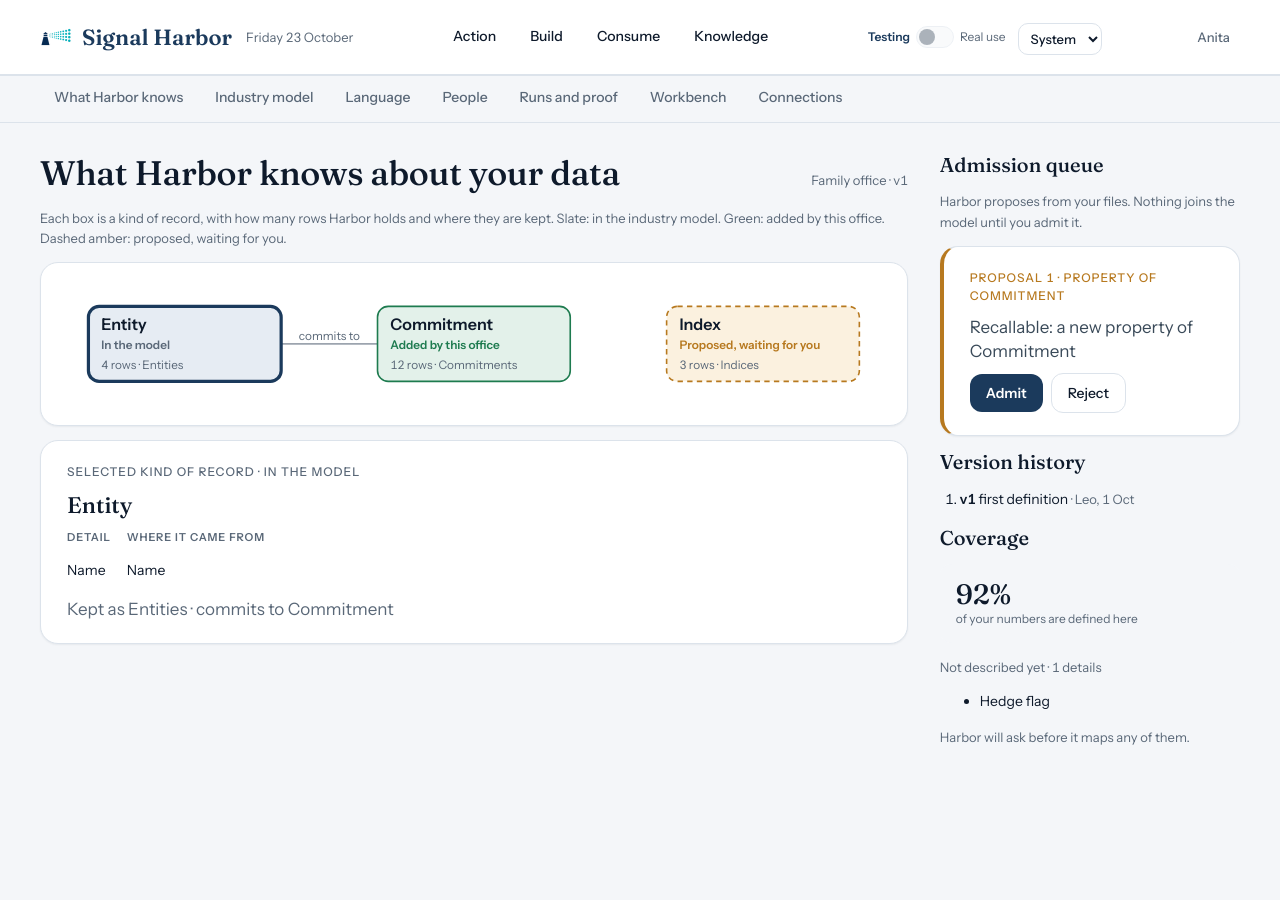
it: admit posts the proposal
The image size is (1280, 900).
Click the button "Admit" at (1006, 393), box [970, 374, 1043, 412]
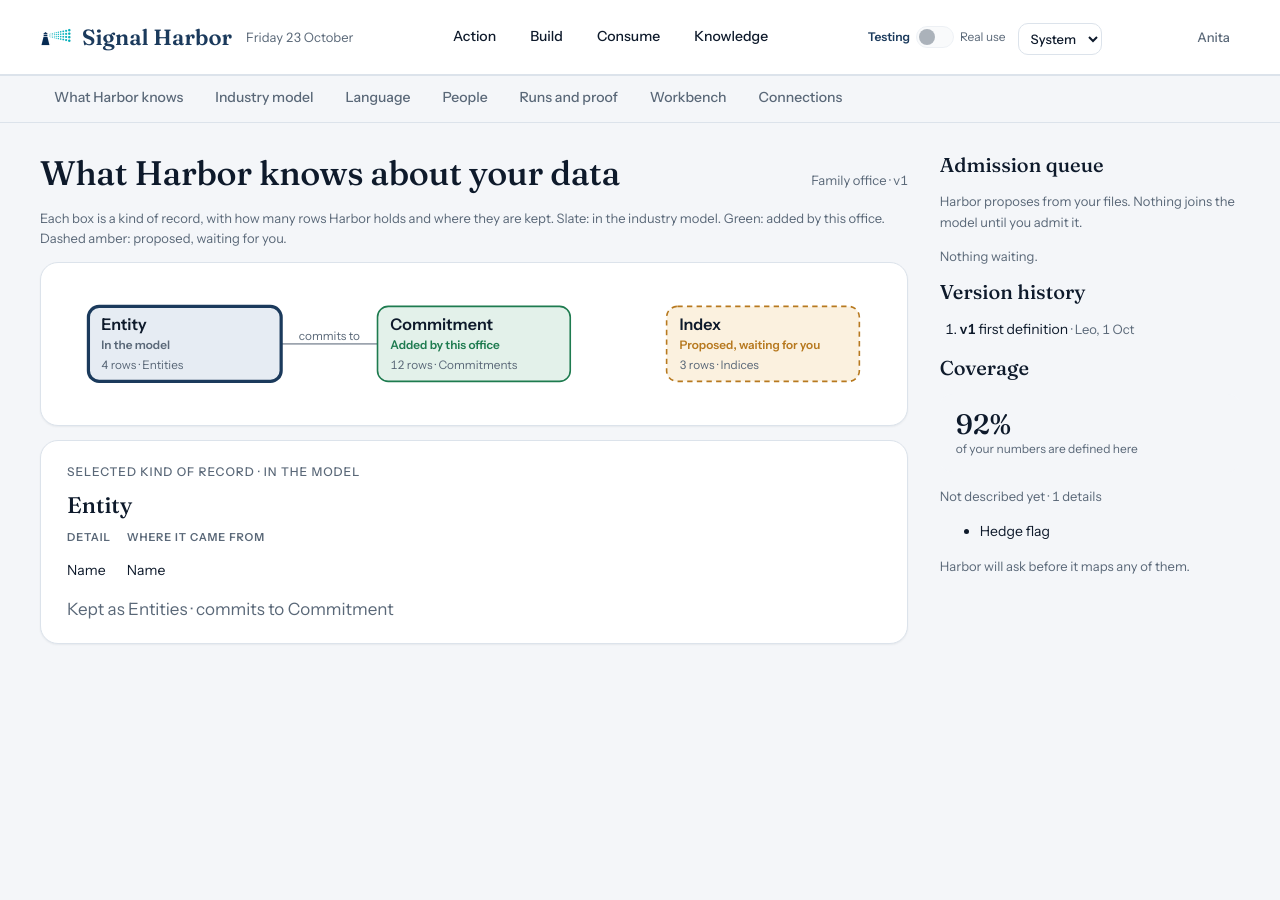
Check: the text "Nothing waiting." is shown, box [940, 248, 1038, 264]
